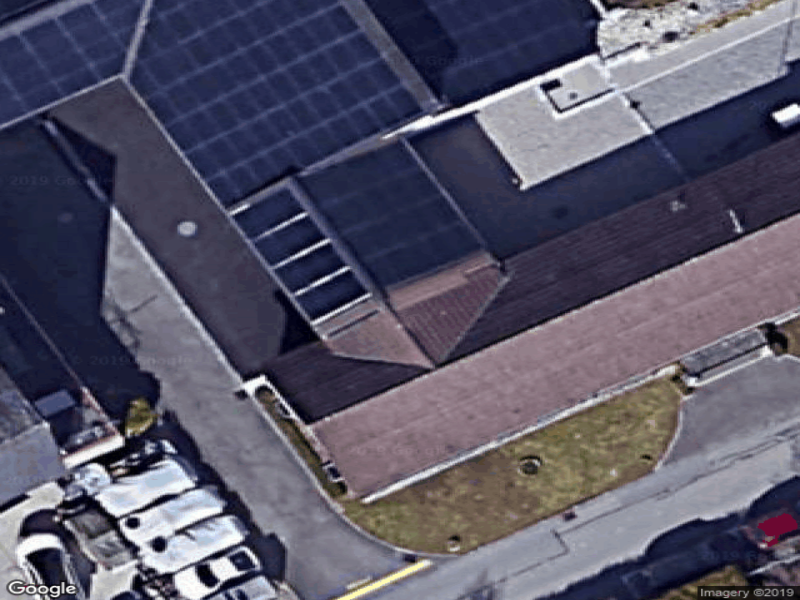pv: (1, 1, 594, 327)
